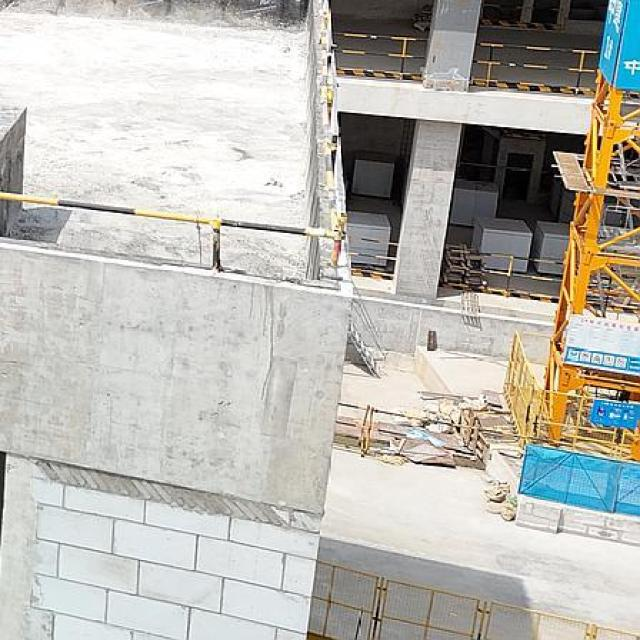Guardrail: (0, 27, 347, 276), (470, 40, 601, 97), (440, 246, 563, 301), (334, 28, 429, 82), (349, 231, 400, 279)
